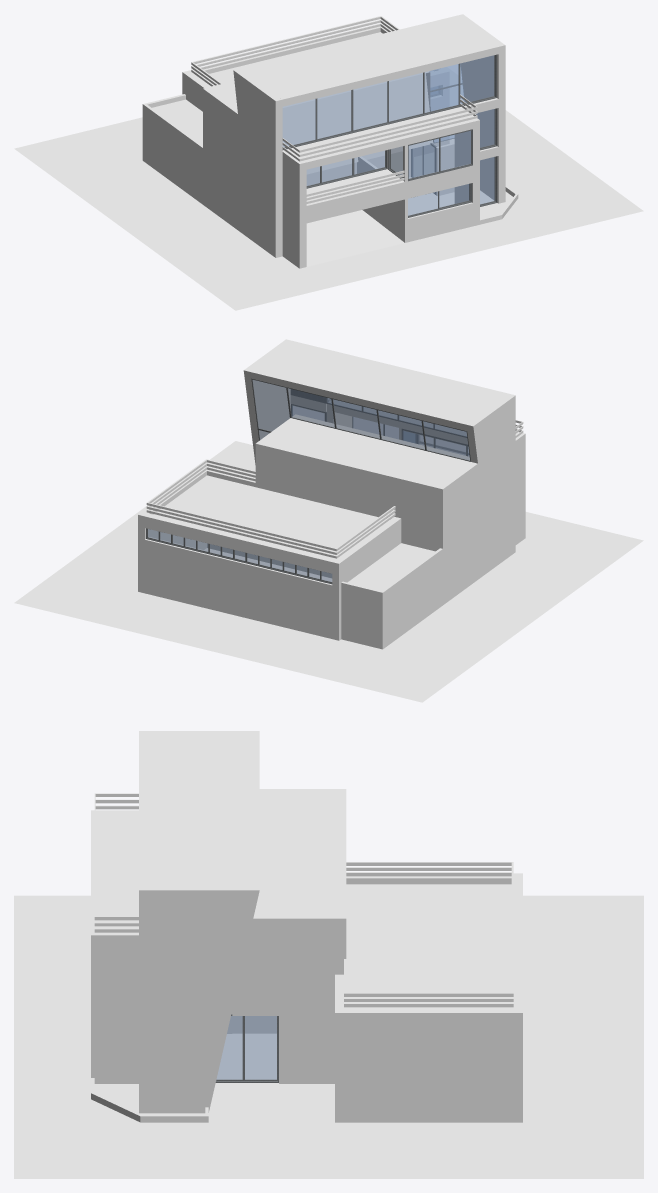
The picture shows the model from 3 angles, top to bottom: view 1: azimuth 30°, elevation 25°; view 2: azimuth 150°, elevation 25°; view 3: azimuth 270°, elevation 25°; orthographic projection. The views are drawn at different scales.
Parts seen in each view (by area): view 1: Root Node, 19458, 19293, 20128, 19517, 22356, 21067, 24647, 19191, 21715, 19634, 21284 (+16 smaller); view 2: Root Node, 22356, 19191, 19458, 23112, 21067, 22736, 19517, 19293, 23172, 25002, 24937 (+3 smaller); view 3: Root Node, 19458, 22356, 19191, 23112, 19293, 22477, 25002, 24871, 24937, 20922, 22342.
Part boxes in pixels (<box>): Root Node: <box>14,67,643,310</box>; 19458: <box>240,14,505,203</box>; 19293: <box>282,107,479,268</box>; 20128: <box>282,54,496,149</box>; 19517: <box>233,68,282,257</box>; 22356: <box>203,71,430,239</box>; 21067: <box>142,94,202,204</box>; 24647: <box>283,210,404,266</box>; 19191: <box>182,26,449,156</box>; 21715: <box>408,129,472,181</box>; 19634: <box>408,202,472,242</box>; 21284: <box>306,150,387,188</box>; Root Node: <box>14,441,643,702</box>; 22356: <box>255,414,491,604</box>; 19191: <box>138,469,401,640</box>; 19458: <box>243,339,508,464</box>; 23112: <box>153,475,380,558</box>; 21067: <box>341,543,442,649</box>; 22736: <box>251,378,470,461</box>; 19517: <box>466,393,515,569</box>; 19293: <box>327,400,525,544</box>; 23172: <box>146,528,332,584</box>; 25002: <box>146,459,395,551</box>; 24937: <box>146,463,395,554</box>; Root Node: <box>14,895,643,1178</box>; 19458: <box>139,735,259,1113</box>; 22356: <box>232,789,346,1083</box>; 19191: <box>335,873,522,1122</box>; 23112: <box>346,884,511,1008</box>; 19293: <box>91,810,138,1083</box>; 22477: <box>215,1014,278,1082</box>; 25002: <box>344,862,513,996</box>; 24871: <box>344,872,513,1007</box>; 24937: <box>344,867,513,1001</box>; 20922: <box>91,1078,208,1122</box>; 22342: <box>94,793,138,920</box>.
Bounding box in the file's own units: 29.43 × 10.9 × 27.65.
647 materials, 374 textured.
